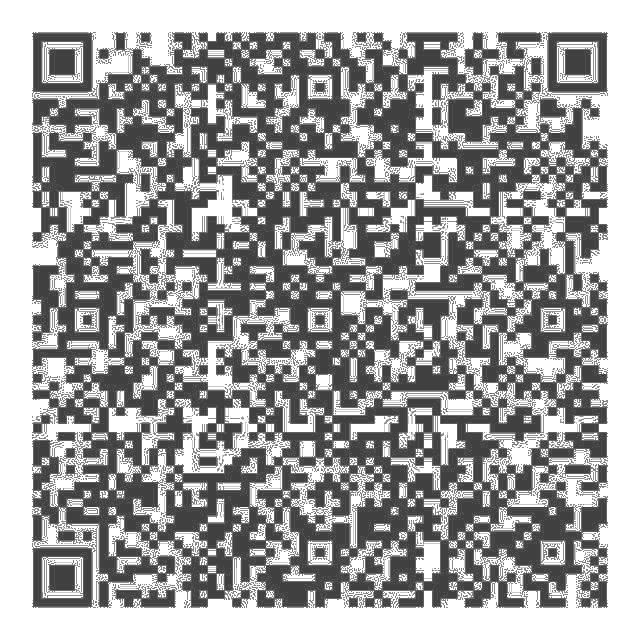qr_code: (24, 17, 617, 620)
